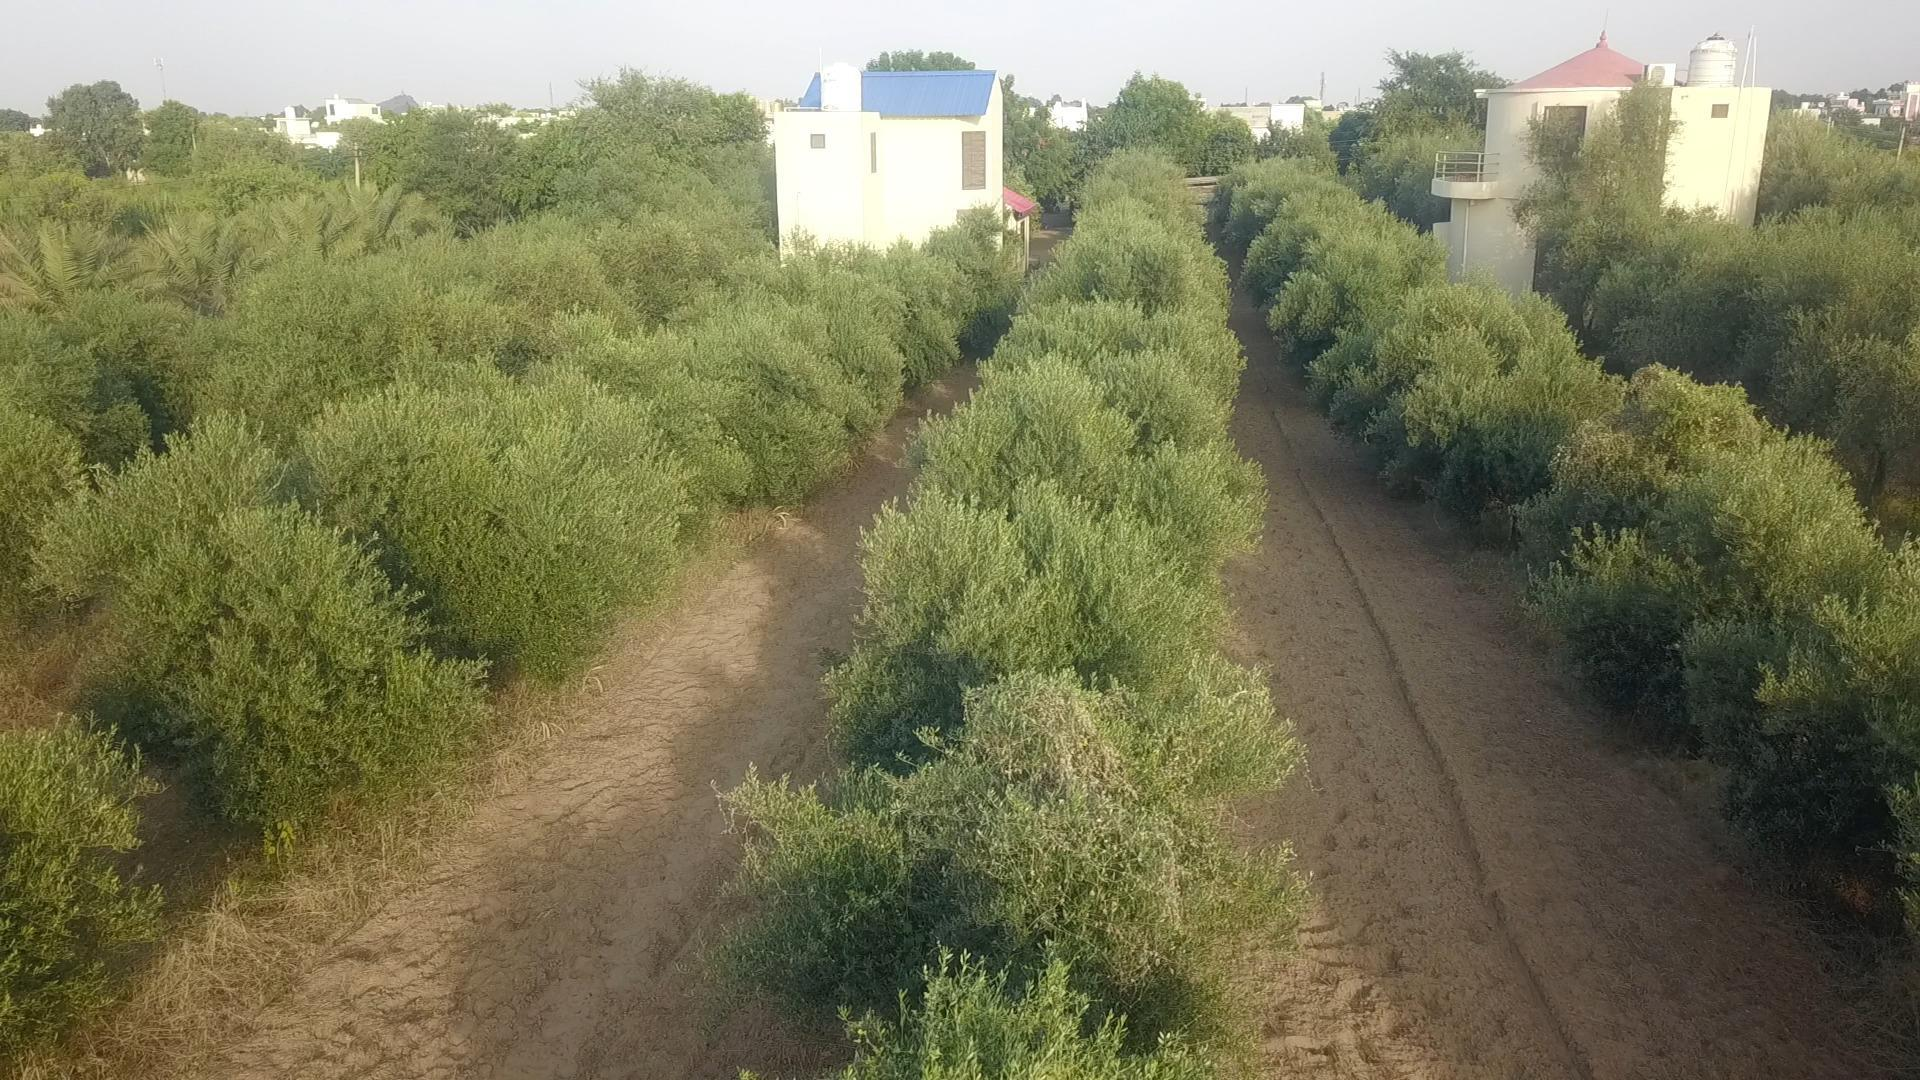canopy: (0, 233, 1021, 1044), (723, 149, 1305, 1079), (1218, 157, 1919, 860), (1539, 200, 1919, 506)
road: (1226, 295, 1888, 1079), (212, 414, 913, 1079)
